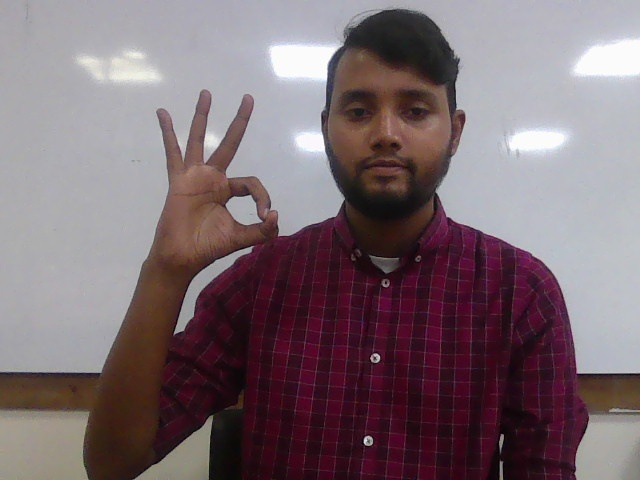Shundor: (150, 89, 281, 270)
